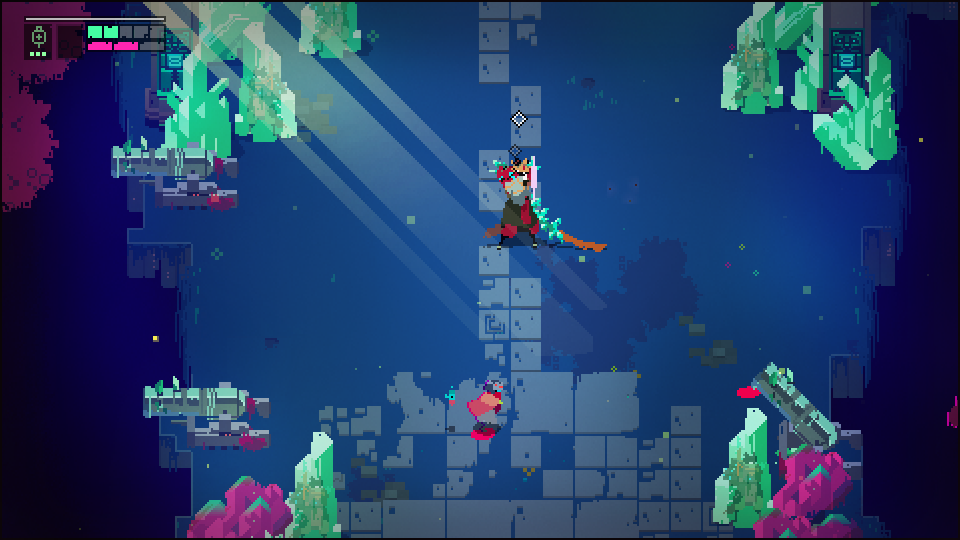hanged_man: (482, 150, 574, 256)
player: (469, 382, 501, 430)
